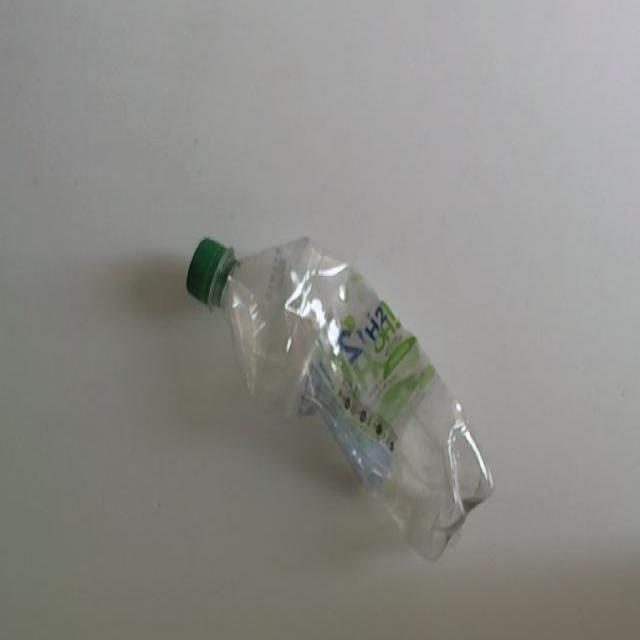defect: (184, 232, 497, 565)
